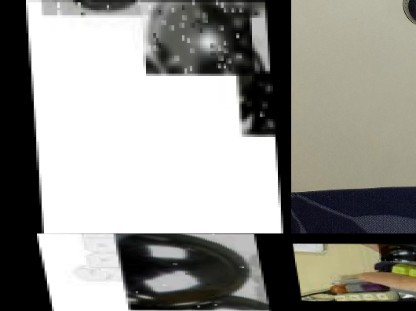ironball: (113, 234, 266, 310), (140, 0, 253, 72), (231, 8, 273, 133), (41, 0, 161, 13), (377, 243, 415, 262), (236, 1, 265, 14)
